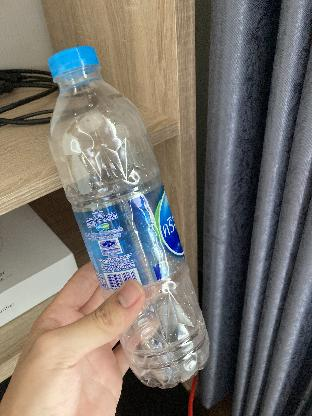Plastic Bottle: (42, 43, 214, 392)
